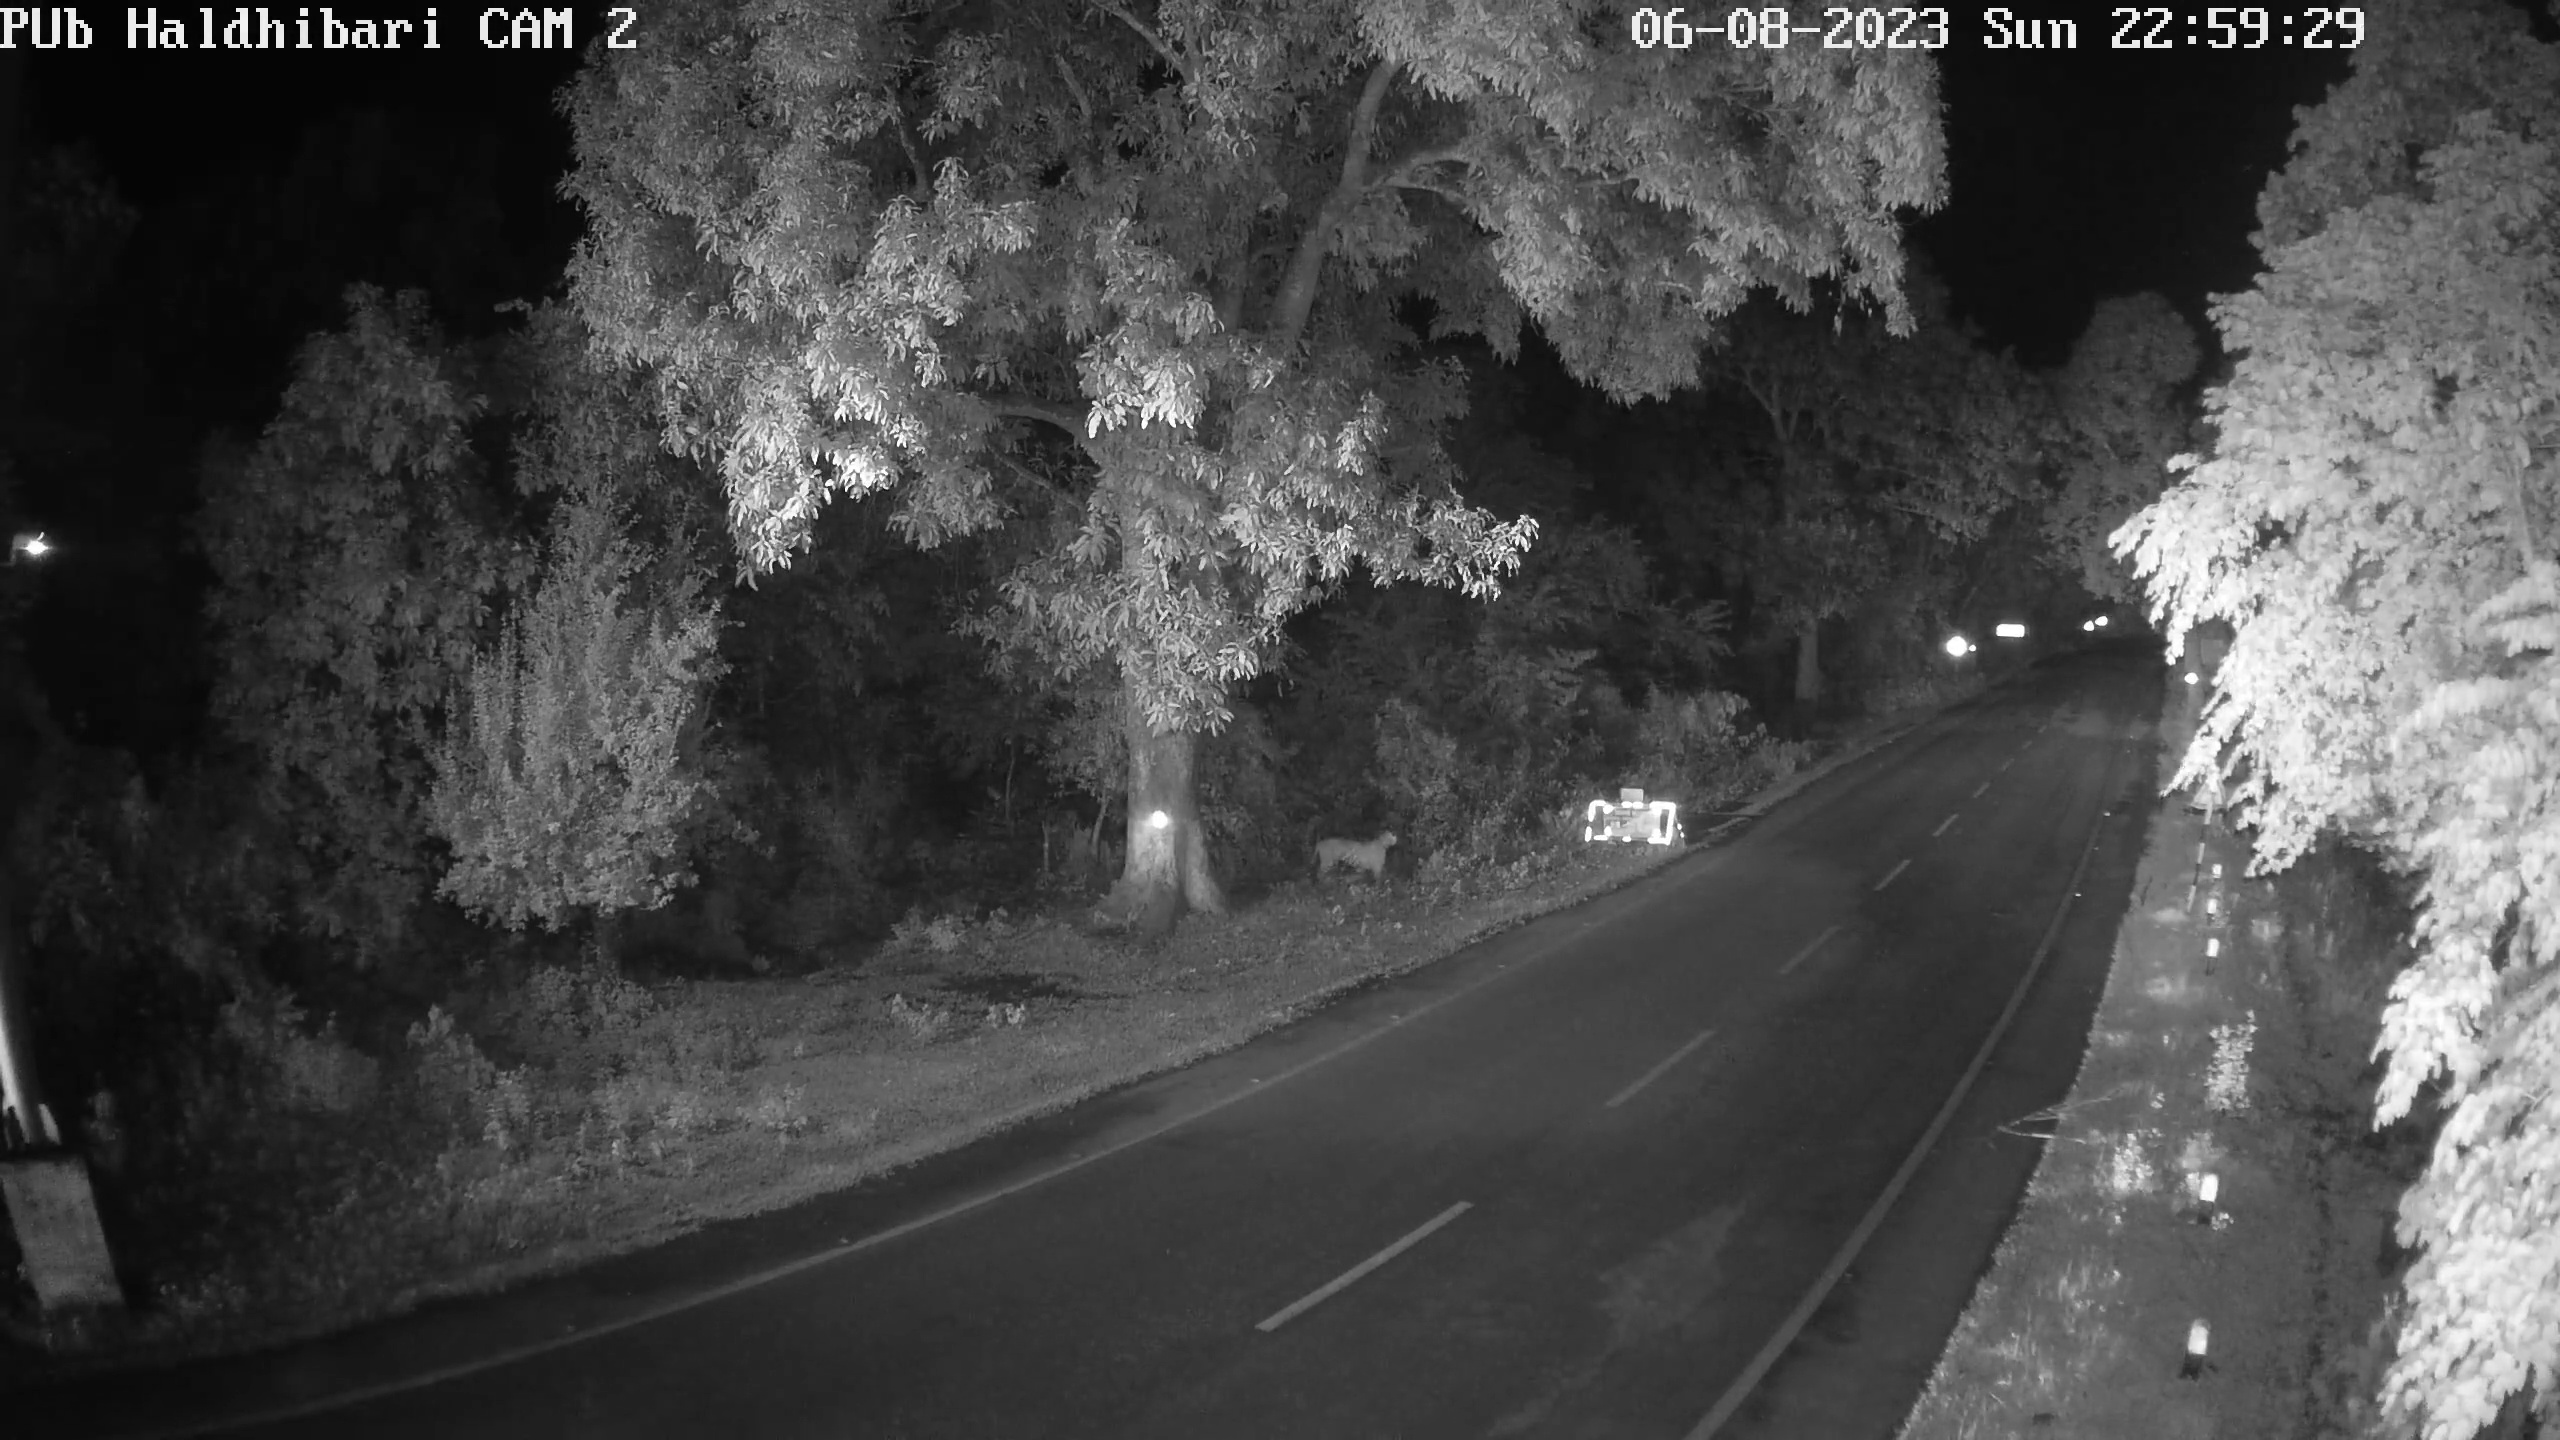tigers: (1312, 825, 1405, 879)
